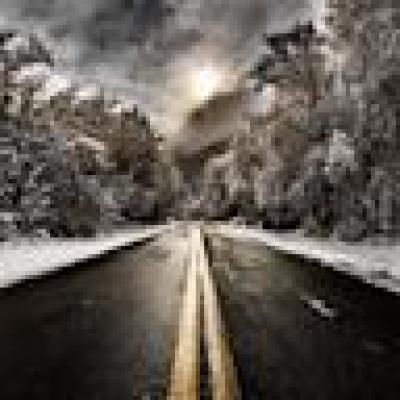iced-road: (0, 229, 188, 400), (208, 238, 400, 400)
